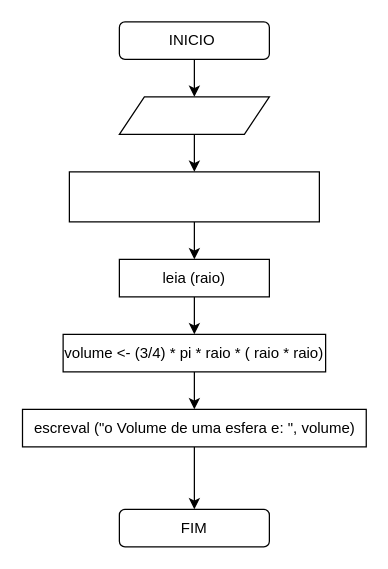
Image size: 388x569. Some labels were removed from this diagram. Each missing label, with the box of its shape:
escreva ("Digite o Valor do Raio: "): (68, 171, 319, 222)
raio, volume : real: (118, 96, 269, 134)
